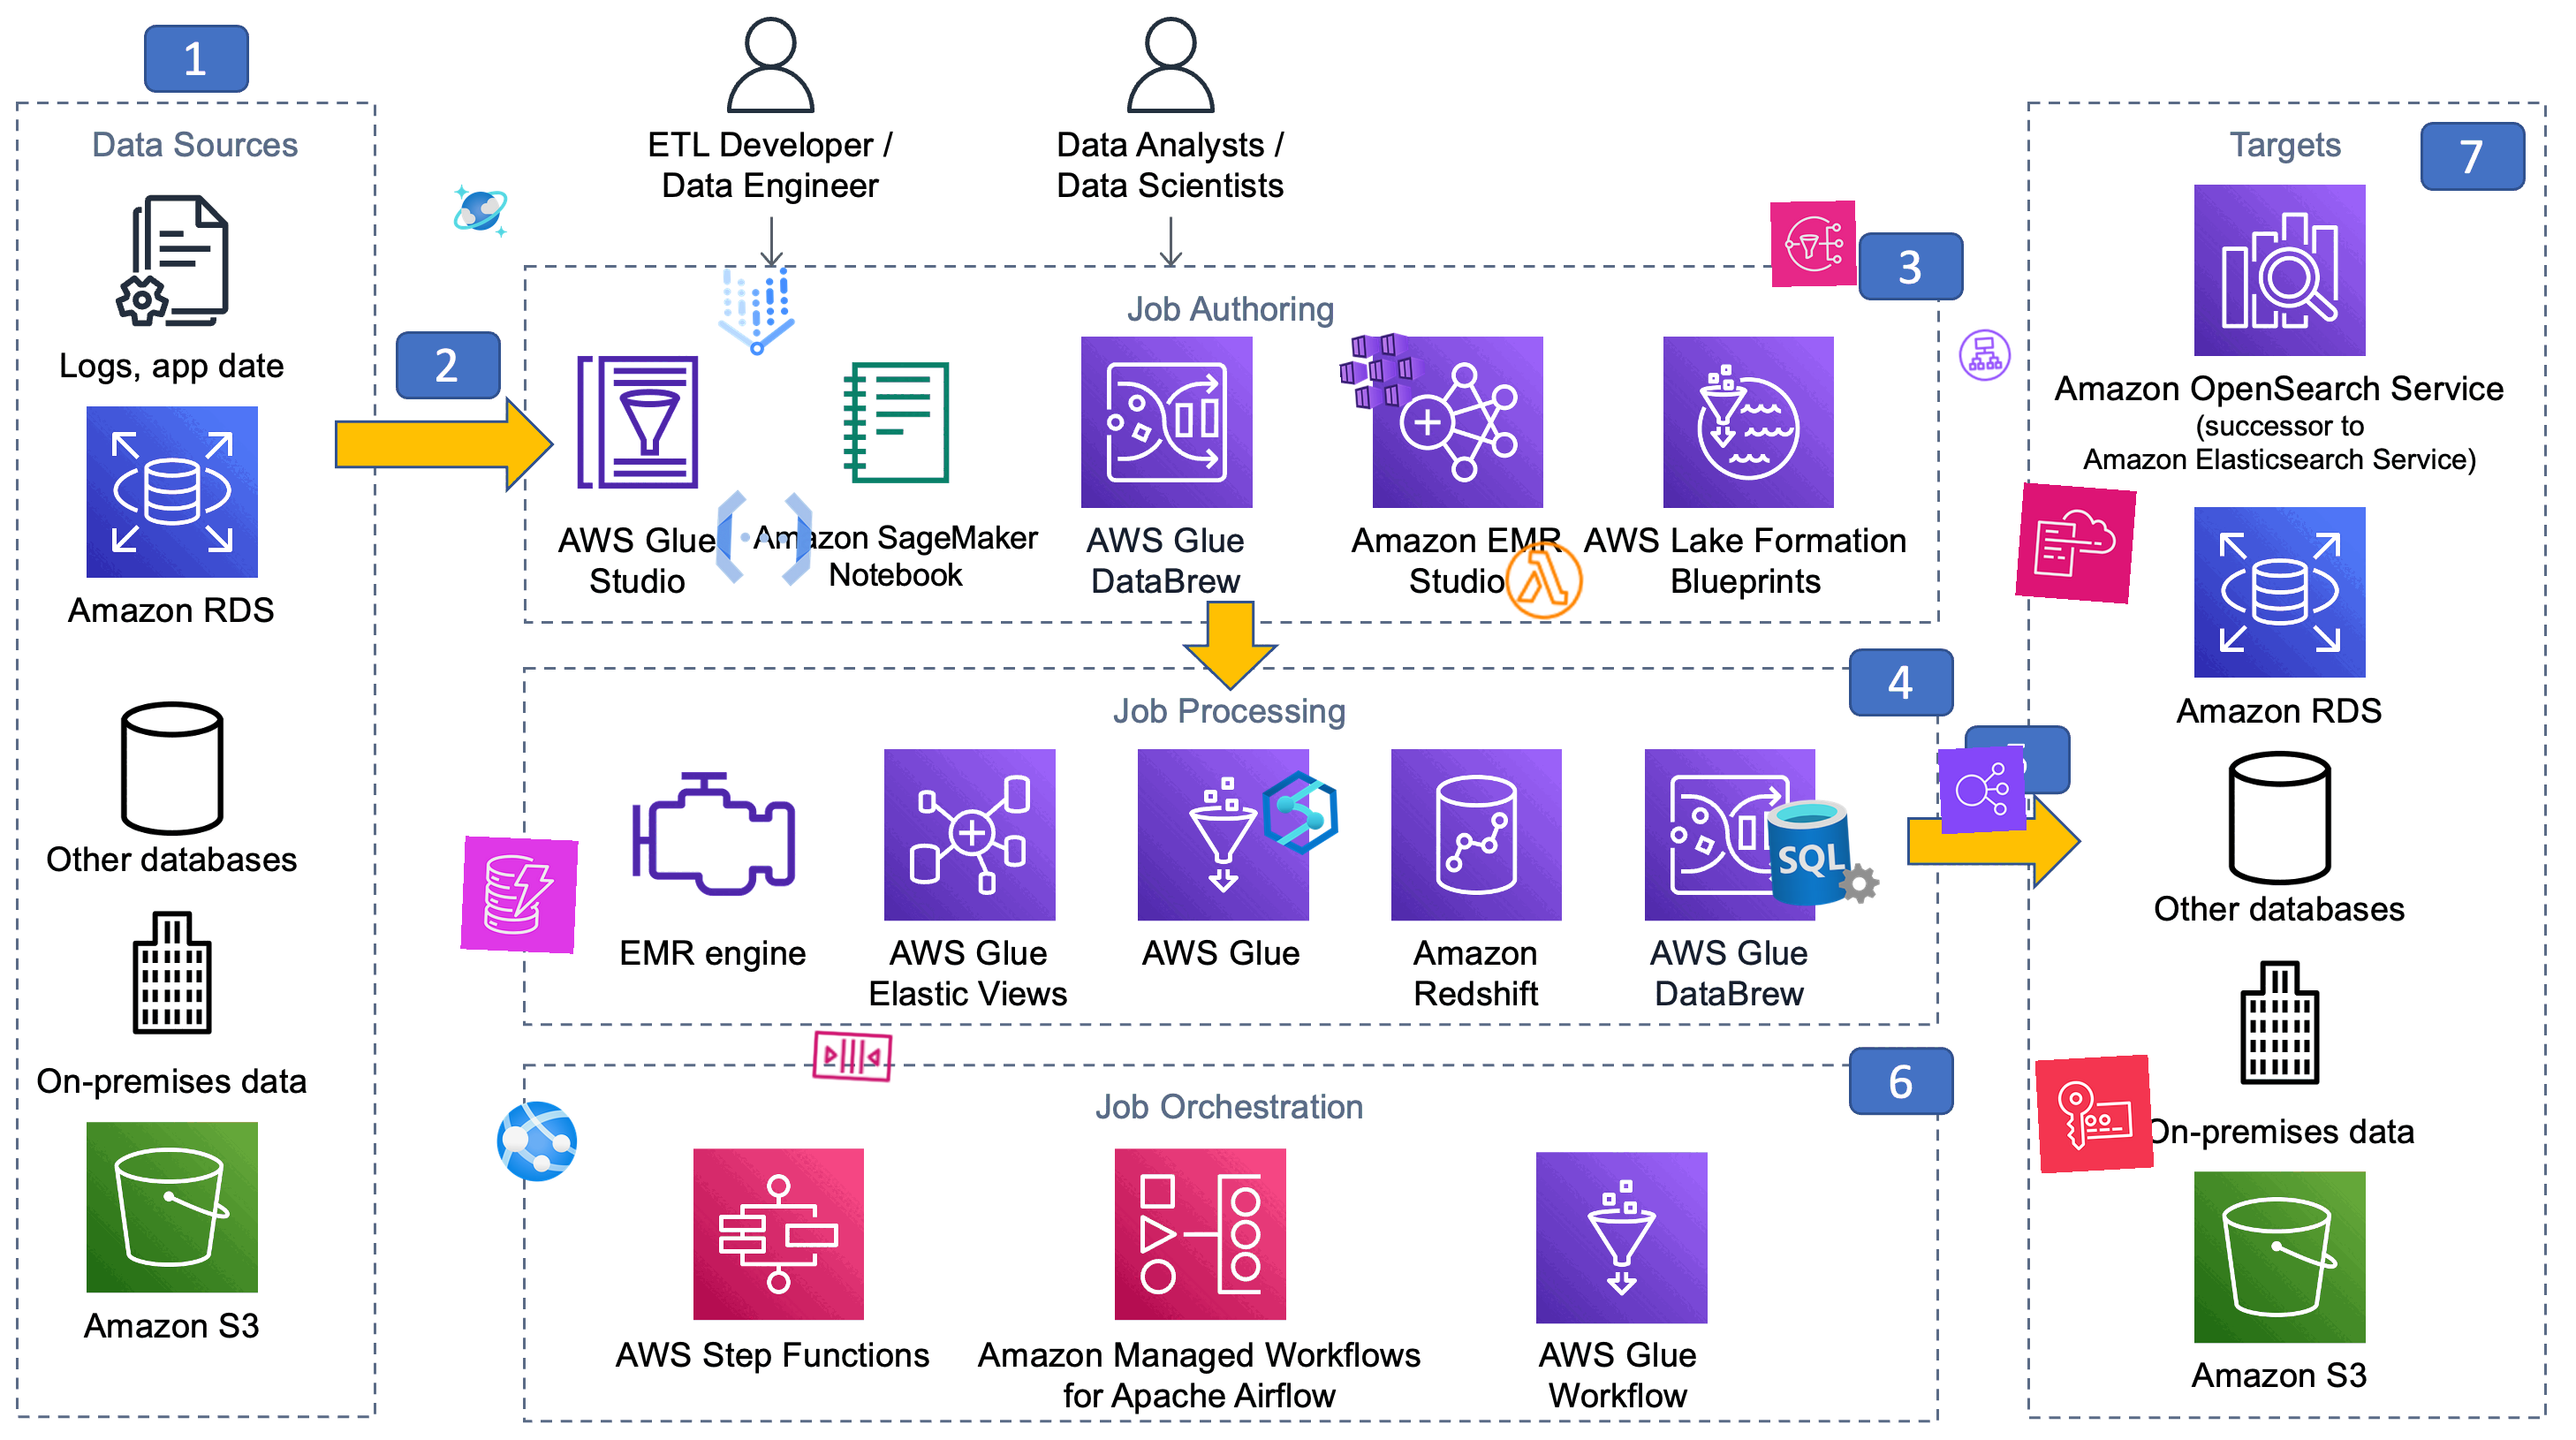aws_amazon_dynamodb: (460, 835, 579, 954)
aws_amazon_simple_notification_service: (1771, 200, 1858, 287)
aws_cloudformation: (2015, 483, 2137, 605)
aws_elastic_load_balancing: (1937, 745, 2028, 835)
aws_elastic_load_balancing_application_load_balancer: (1955, 326, 2015, 386)
aws_key_management_service: (2035, 1054, 2155, 1175)
aws_lambda_lambda_function: (1499, 534, 1591, 626)
aws_simple_queue_service_queue: (807, 1010, 897, 1100)
azure_app_services: (494, 1097, 582, 1185)
azure_cosmos_db: (451, 182, 510, 241)
azure_kubernetes_services: (1336, 324, 1428, 416)
azure_sql_server: (1762, 791, 1884, 913)
azure_synapse_analytics: (1256, 768, 1345, 858)
gcp_cloud_functions: (704, 479, 823, 598)
gcp_vertex_ai: (697, 253, 814, 370)
